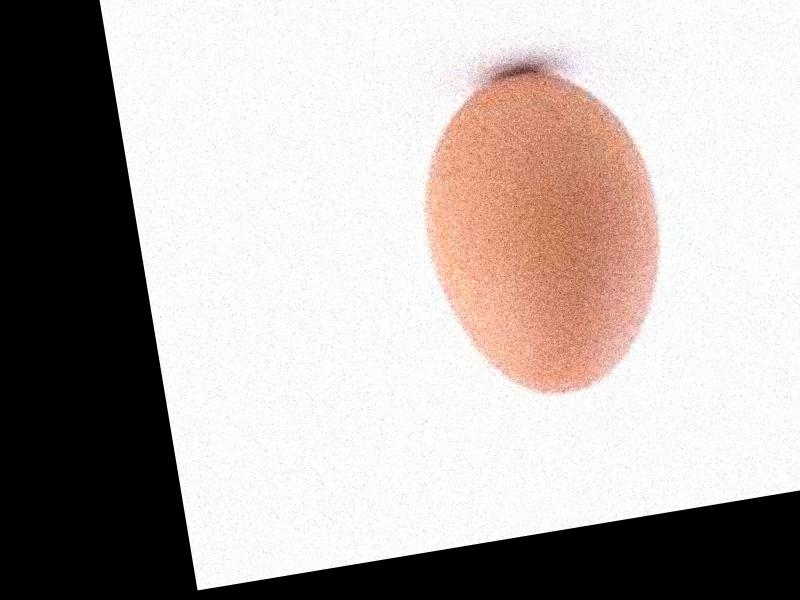Eggs: (407, 55, 687, 413)
